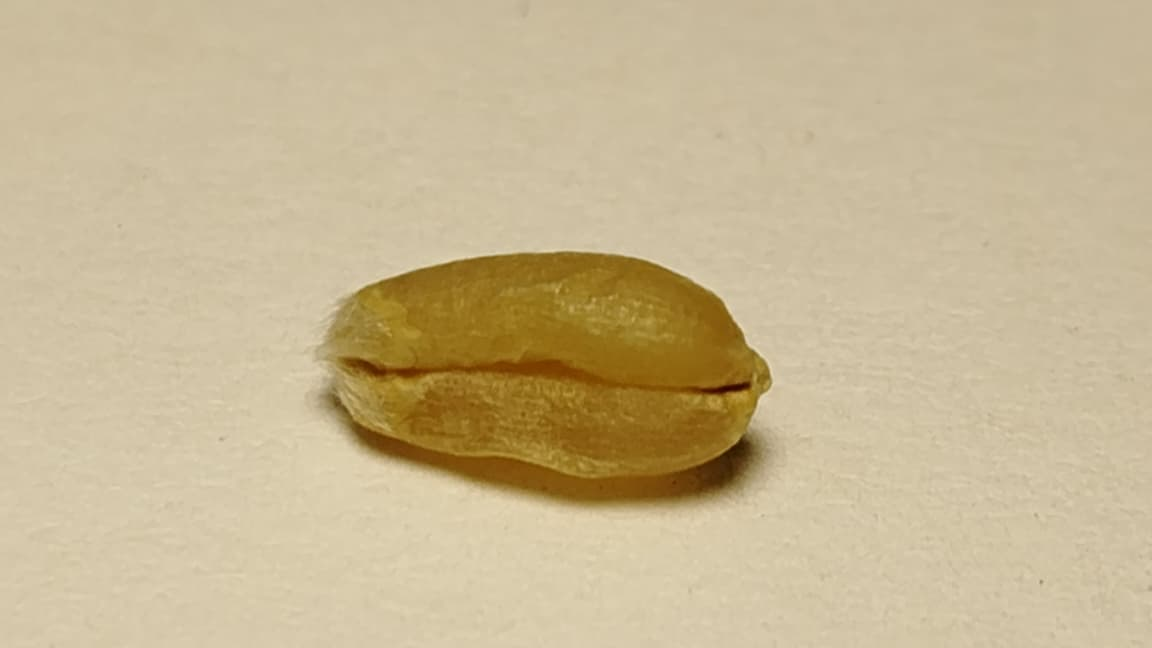healthy: (317, 250, 771, 477)
